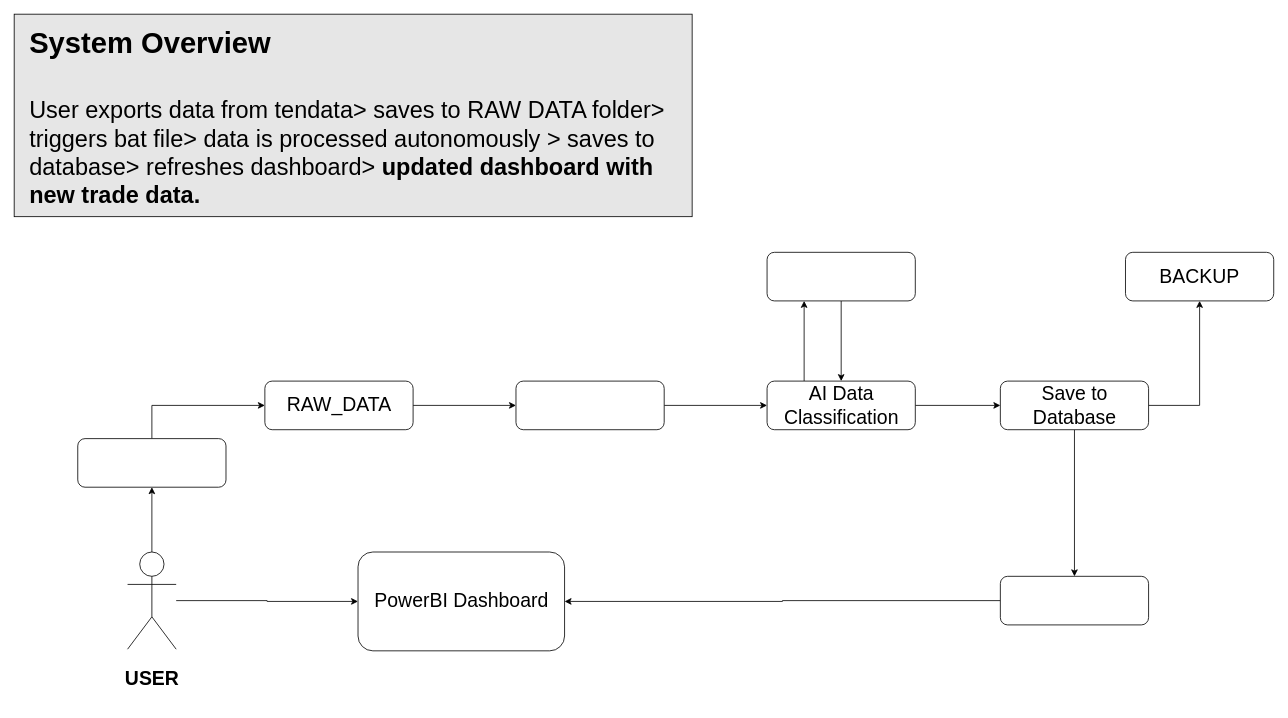
Image size: 1288x718. Some labels were removed from this diagram. Each missing label, with the box of its shape:
Advanced Data Cleaning: (515, 380, 664, 430)
Model Database: (766, 252, 915, 301)
tendata: (77, 438, 226, 487)
Trade_Data.db: (1000, 576, 1149, 625)
